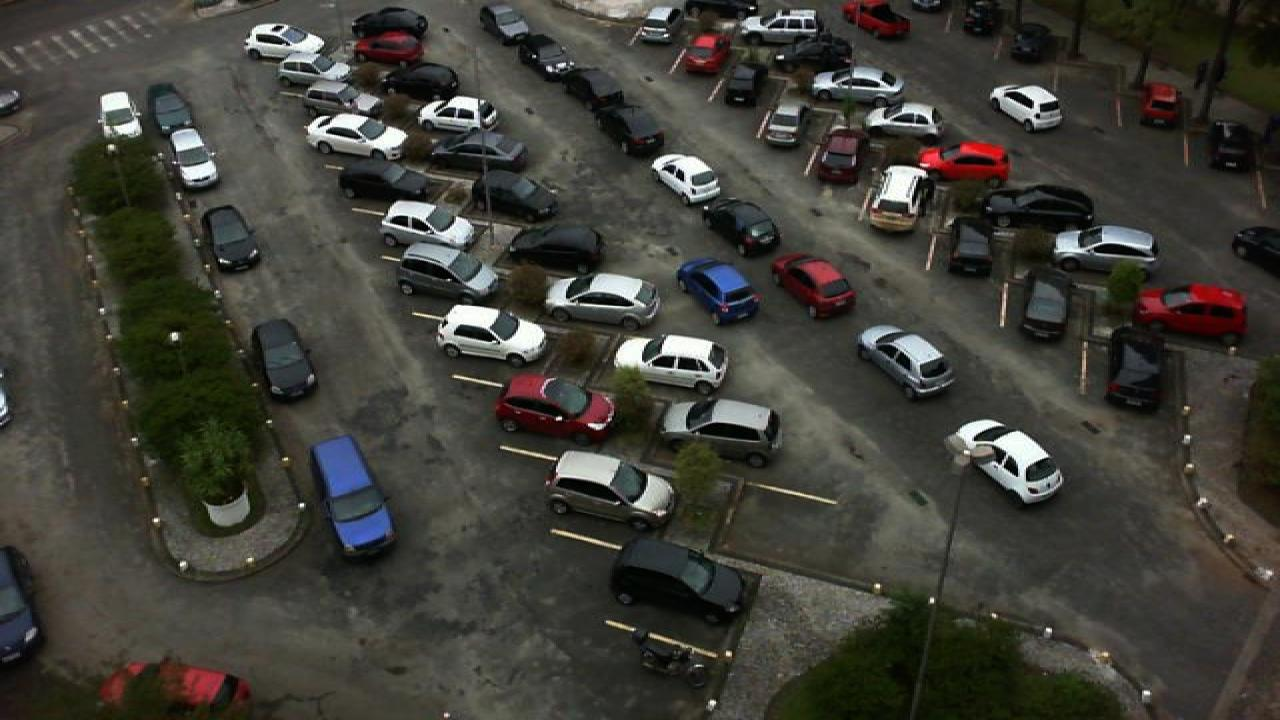Car: (610, 534, 746, 626), (308, 433, 398, 564), (542, 447, 678, 533), (948, 418, 1066, 507), (100, 658, 256, 720), (658, 395, 786, 469), (492, 371, 618, 446), (608, 331, 732, 397), (856, 322, 958, 400), (1136, 280, 1250, 348), (432, 302, 550, 366), (540, 270, 664, 327), (394, 242, 498, 306), (672, 256, 760, 328), (1104, 321, 1172, 413), (248, 317, 320, 402), (772, 251, 858, 321), (1048, 222, 1162, 274), (504, 220, 608, 276), (376, 197, 478, 253), (304, 111, 410, 162), (864, 163, 938, 234), (0, 546, 42, 670), (980, 184, 1096, 228), (700, 196, 782, 258), (198, 204, 264, 274), (1014, 269, 1076, 342), (432, 128, 528, 174), (336, 160, 432, 204), (988, 82, 1066, 133), (652, 153, 724, 208), (482, 174, 562, 223), (916, 141, 1012, 181), (808, 66, 908, 104), (810, 126, 872, 186), (240, 21, 328, 62), (598, 103, 666, 156), (168, 125, 222, 191), (300, 79, 380, 119), (380, 62, 462, 101), (944, 216, 994, 279), (516, 29, 578, 79), (738, 8, 826, 43), (418, 94, 498, 132), (864, 102, 944, 138), (276, 53, 356, 89), (560, 66, 624, 110), (350, 30, 428, 66), (752, 102, 812, 148), (350, 6, 430, 40), (146, 81, 198, 133), (840, 0, 912, 37), (96, 89, 146, 142), (676, 30, 732, 77), (1208, 119, 1258, 171), (478, 1, 534, 47), (1136, 81, 1184, 131), (790, 33, 856, 66), (718, 62, 764, 108), (1006, 19, 1052, 64), (634, 5, 680, 45), (958, 0, 1002, 38)
